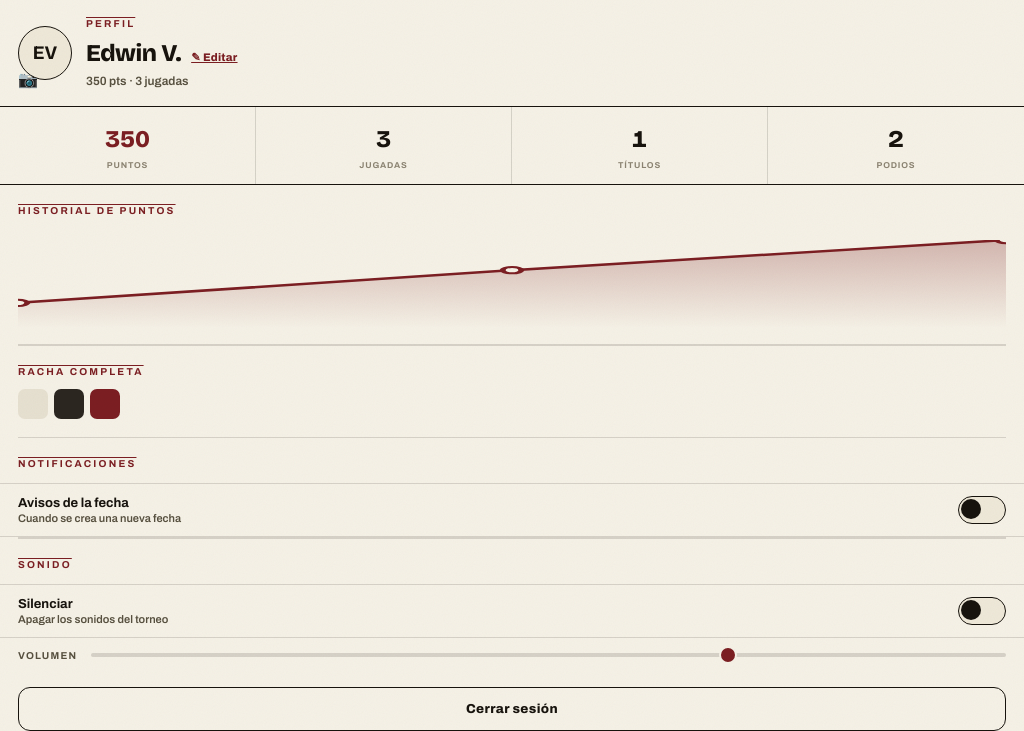
Test case: Profile (Perfil) › surfaces a save error and keeps the field open when update_own_profile fails
expect the element with test id "prof-stats" is shown: met, box [0,106,1023,185]
Step 1. Click the button with aria-label "Editar nombre" → (214, 58), box [191,51,238,64]
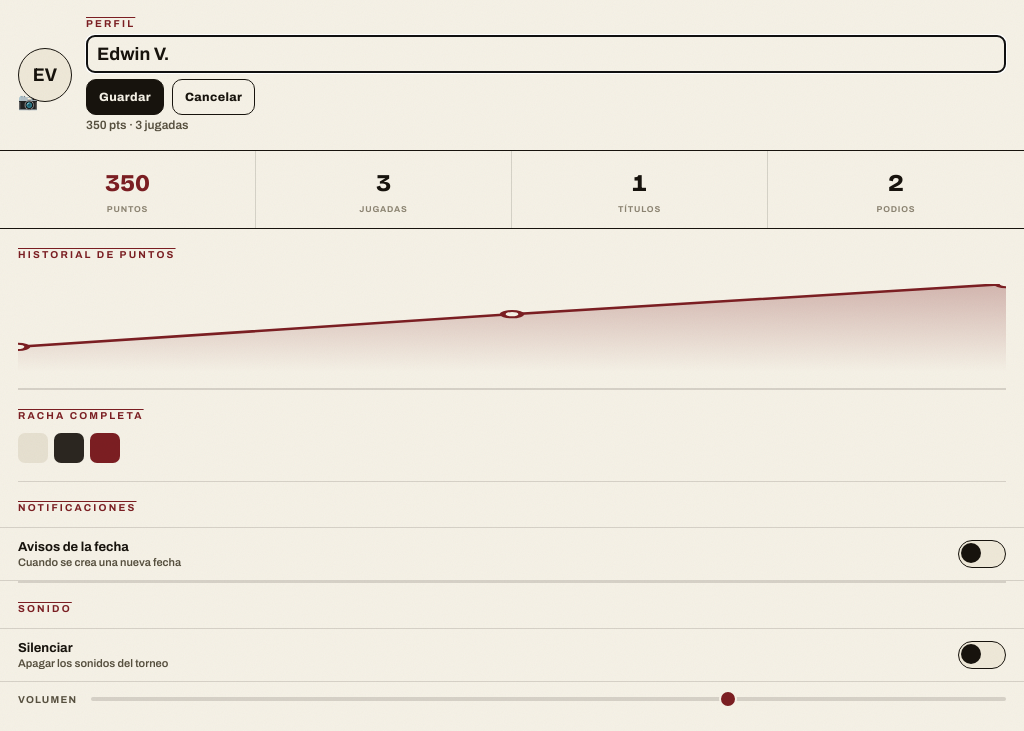
Step 2. Type " X" into the field named "Nombre" → (546, 54), box [86,35,1006,73]
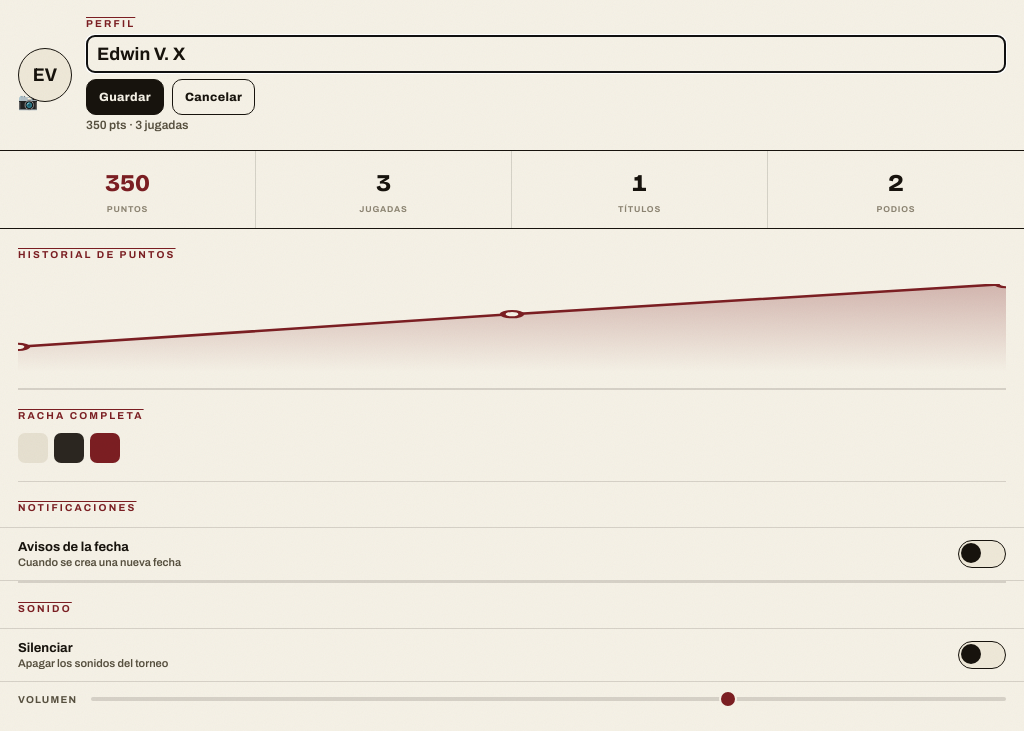
Step 3. Click the button "Guardar" → (125, 97), box [86,79,164,115]
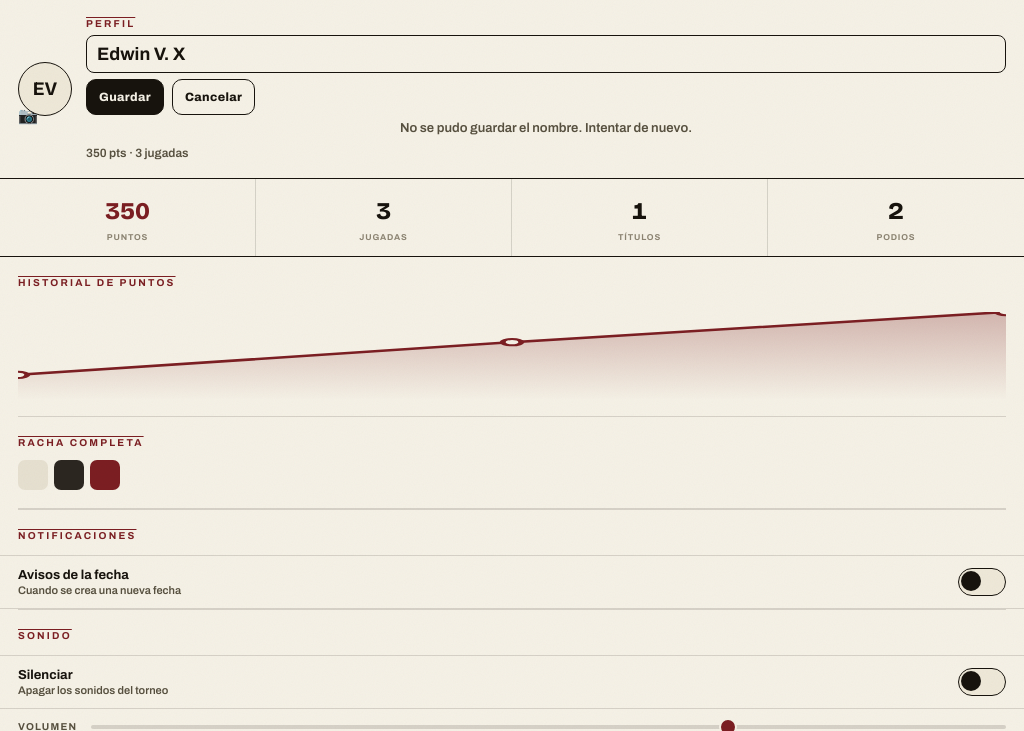
expect the field named "Nombre" is shown: met, box [86,35,1006,73]
expect the message shows "No se pudo guardar el nombre": met, box [400,121,692,135]
